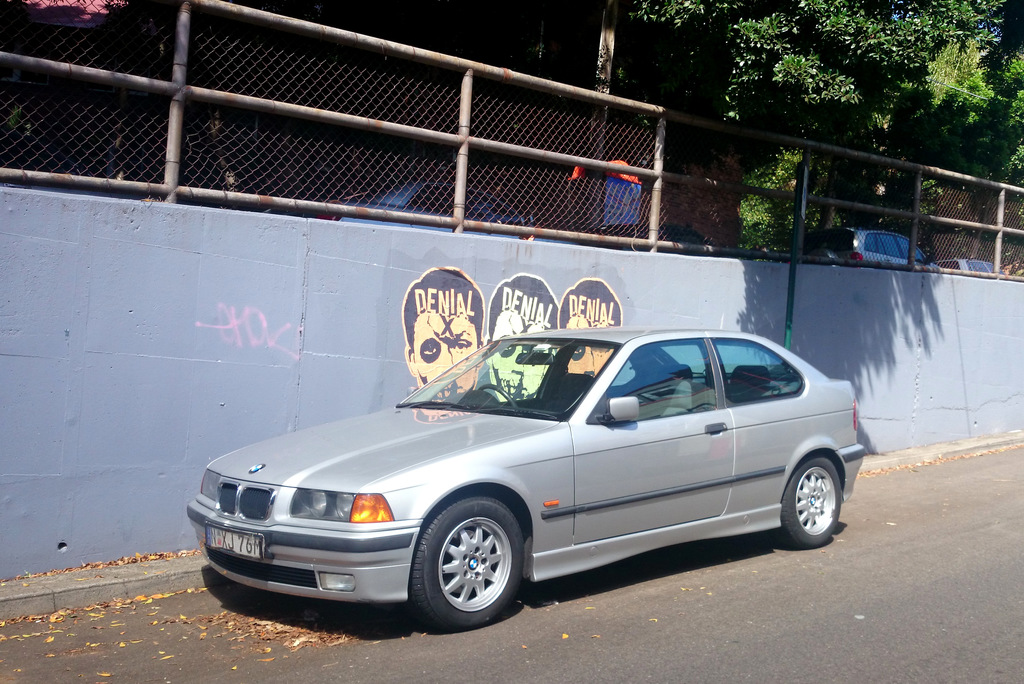Car: (179, 324, 872, 631), (351, 185, 556, 245), (821, 223, 940, 267), (948, 258, 999, 278)
